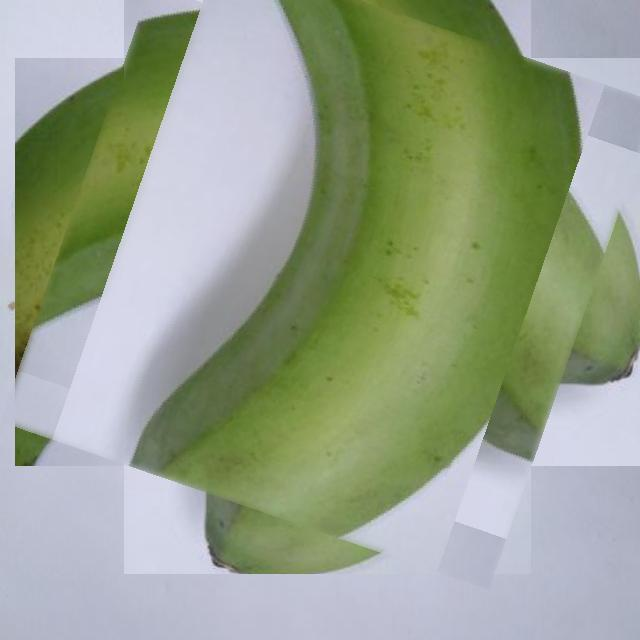Verde: (34, 0, 620, 555)
